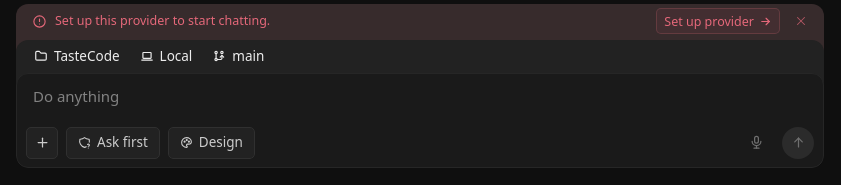
Test case: Composer voice dictation › keeps a send-after transcript as a draft when the provider is not ready
Click the button named "Record voice note": (756, 143) [740,127,772,159]
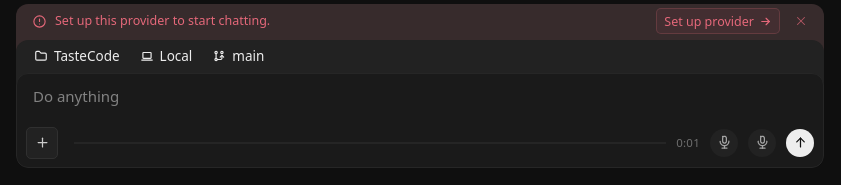
Click the button named "Transcribe and send voice note": (800, 143) [786,129,814,157]
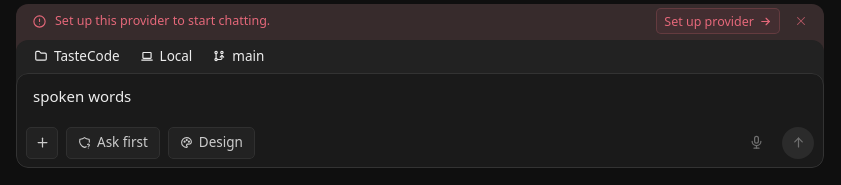
Check: the text box with placeholder "Do anything" holds "spoken words", box [17,74,823,122]
